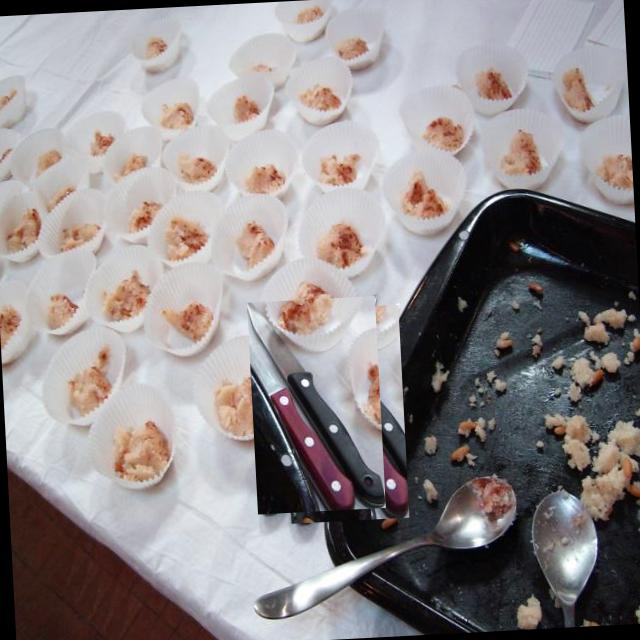Knife: (248, 304, 386, 508), (281, 311, 409, 519)
